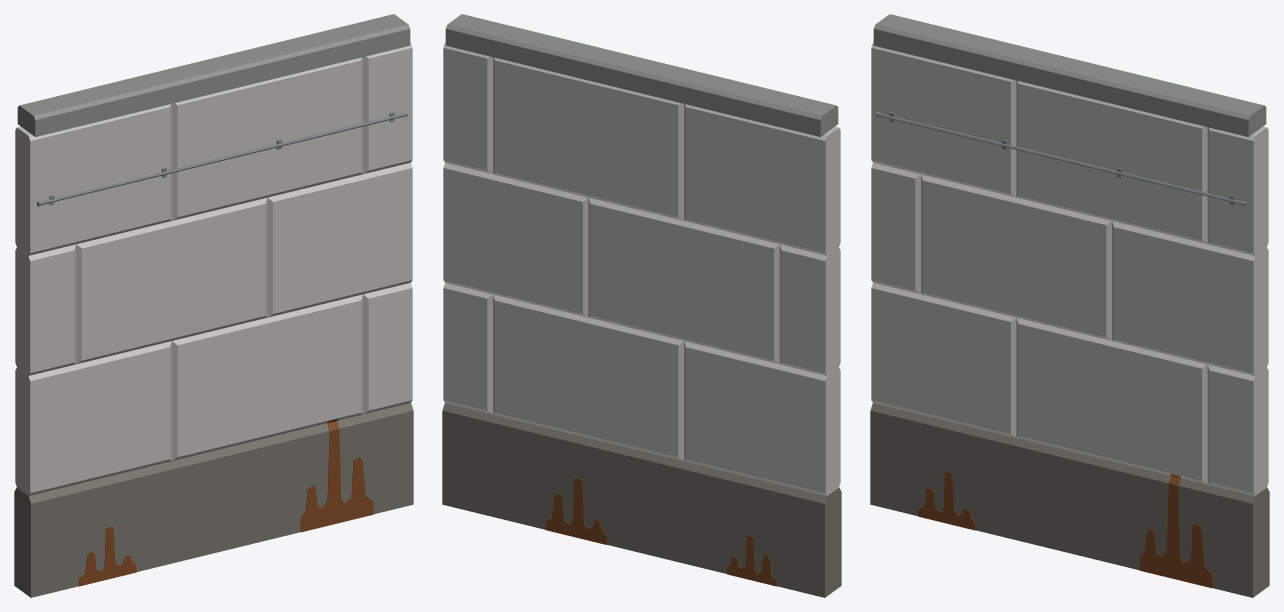
Rendered from perimeter-wall-adc811.glb.
3 renders of one model, left to right at view 1: azimuth 30°, elevation 25°; view 2: azimuth 150°, elevation 25°; view 3: azimuth 330°, elevation 25°, orthographic.
Visible parts, largest first — view 1: wall; view 2: wall; view 3: wall.
Part boxes in pixels (x1,y1,x2,y2): wall: [14, 14, 413, 597]; wall: [442, 14, 841, 597]; wall: [870, 14, 1269, 597].
Size of the model in its own units: 2 by 2.4 by 0.1673.
